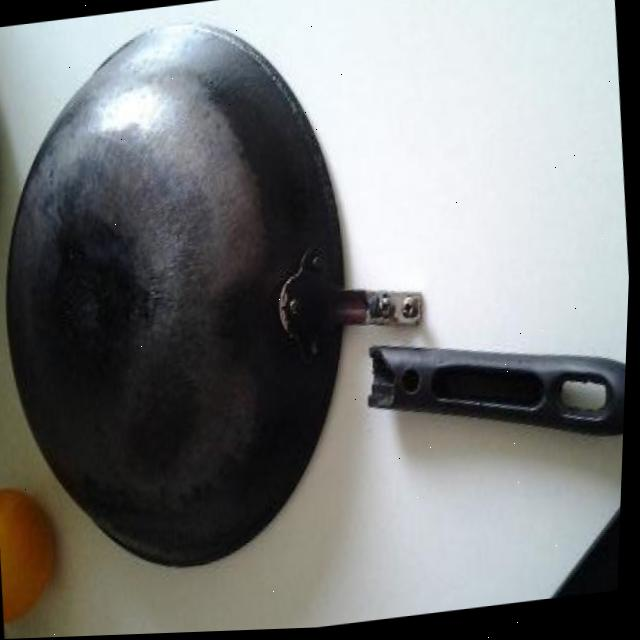Wet: (0, 480, 68, 622)
